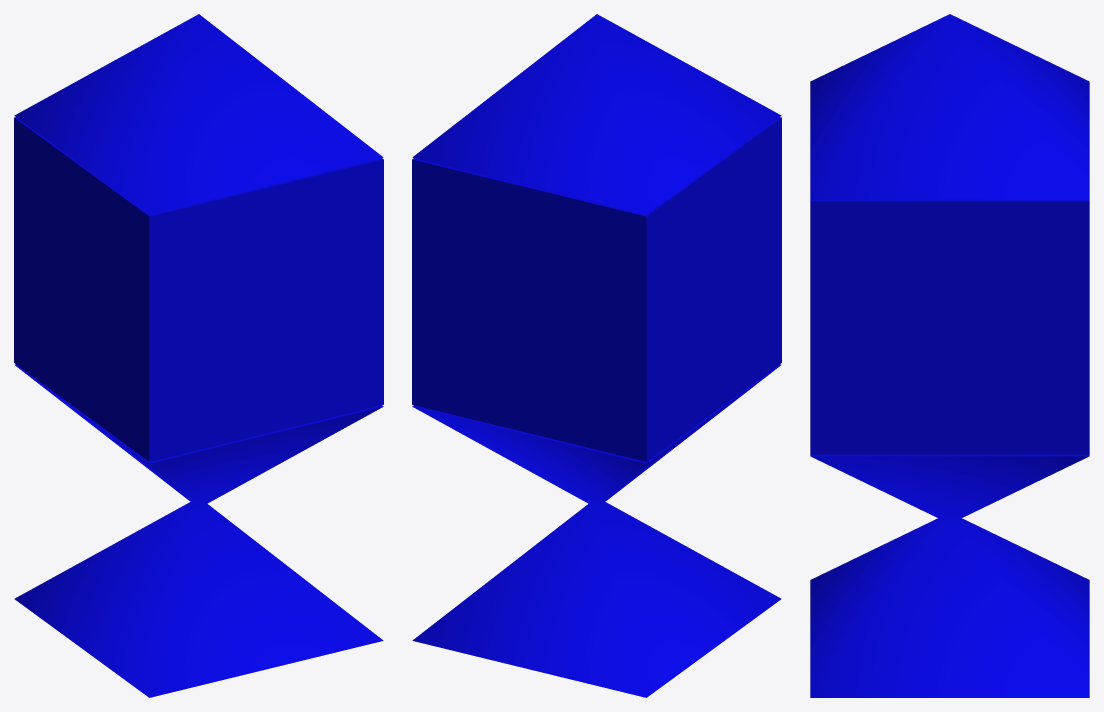
File: peonCuadrado001.fbx
3 views of the same model, side by side, from view 1: azimuth 30°, elevation 25°; view 2: azimuth 150°, elevation 25°; view 3: azimuth 270°, elevation 25° (orthographic). The views are drawn at different scales.
Visible parts, largest first — view 1: PeonCuadrado; view 2: PeonCuadrado; view 3: PeonCuadrado.
Boxes of the visible parts, box(x1,y1,x2,y2) form: PeonCuadrado: box(14, 14, 383, 697); PeonCuadrado: box(412, 14, 781, 697); PeonCuadrado: box(810, 14, 1089, 697).
Size of the model in its own units: 33 by 81.5 by 33.
